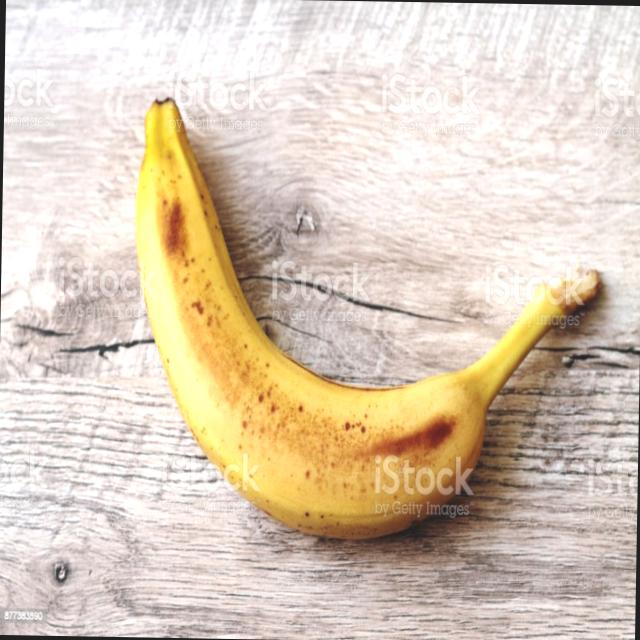Platano: (127, 80, 610, 554)
